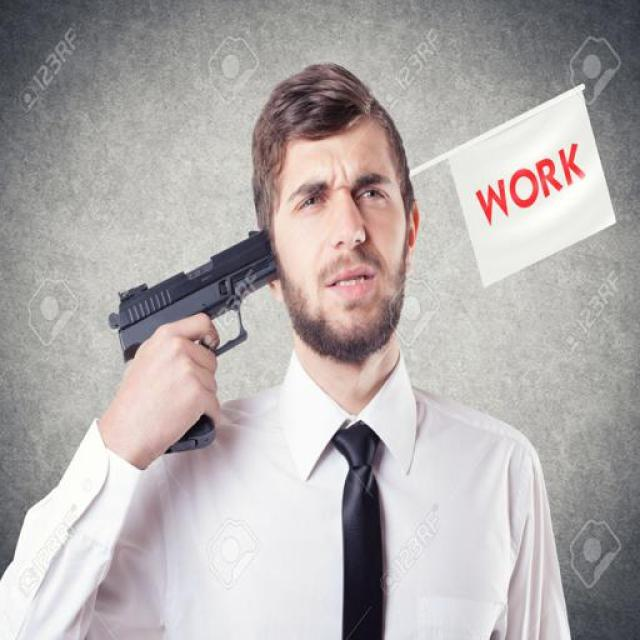pistol: (107, 225, 275, 460)
